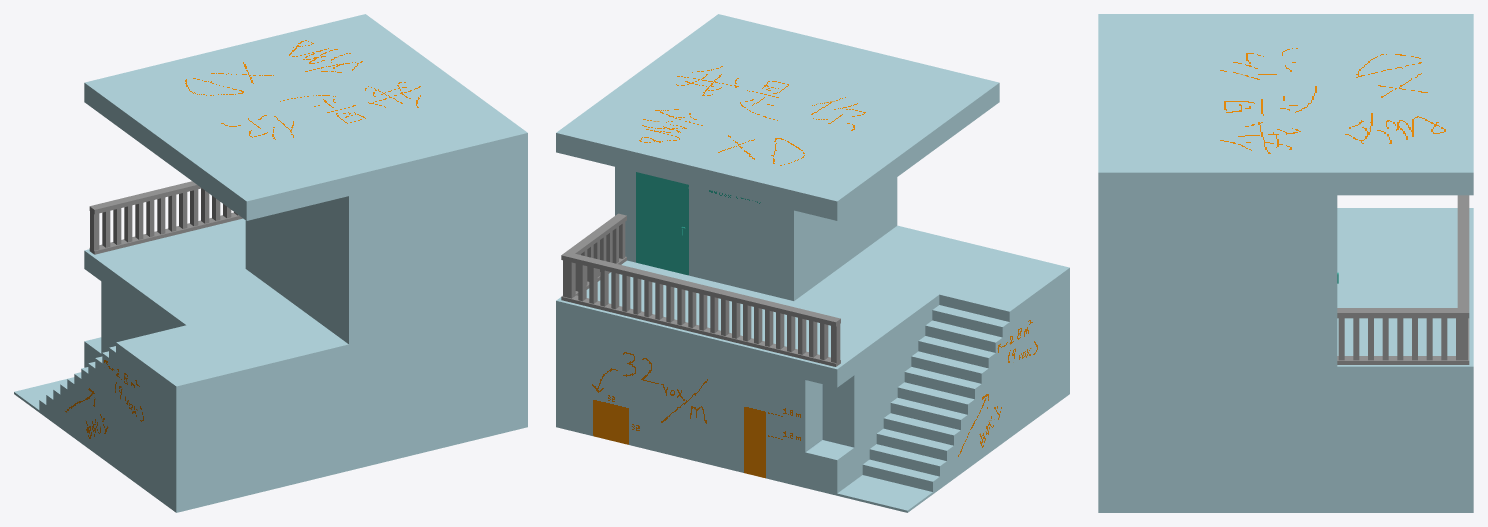
File: te_Building_ScaleBuilding.glb
3 renders of one model, left to right at view 1: azimuth 30°, elevation 25°; view 2: azimuth 150°, elevation 25°; view 3: azimuth 270°, elevation 25°, orthographic. The views are drawn at different scales.
Visible parts, largest first — view 1: te_Building_ScaleBuilding; view 2: te_Building_ScaleBuilding; view 3: te_Building_ScaleBuilding.
Part boxes in pixels (<box>): te_Building_ScaleBuilding: <box>14,14,527,512</box>; te_Building_ScaleBuilding: <box>556,14,1069,512</box>; te_Building_ScaleBuilding: <box>1098,14,1473,512</box>.
Size of the model in its own units: 10 by 8 by 8.
1 material, 1 textured.
